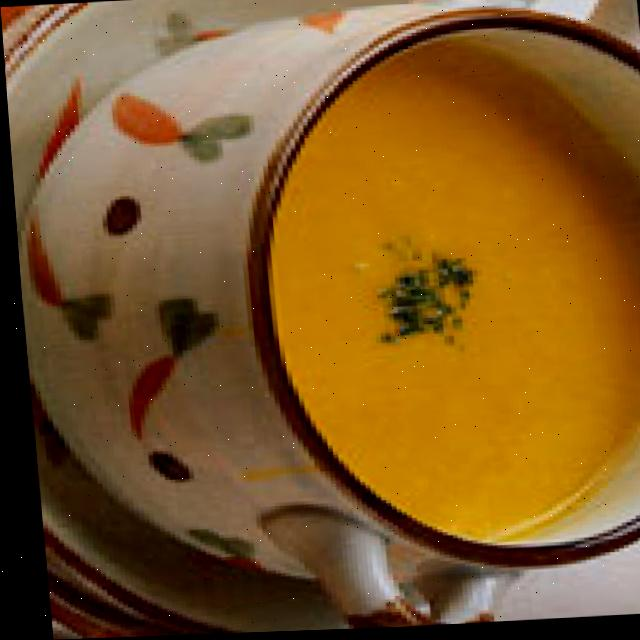汤锅炖物: (15, 1, 640, 626)
